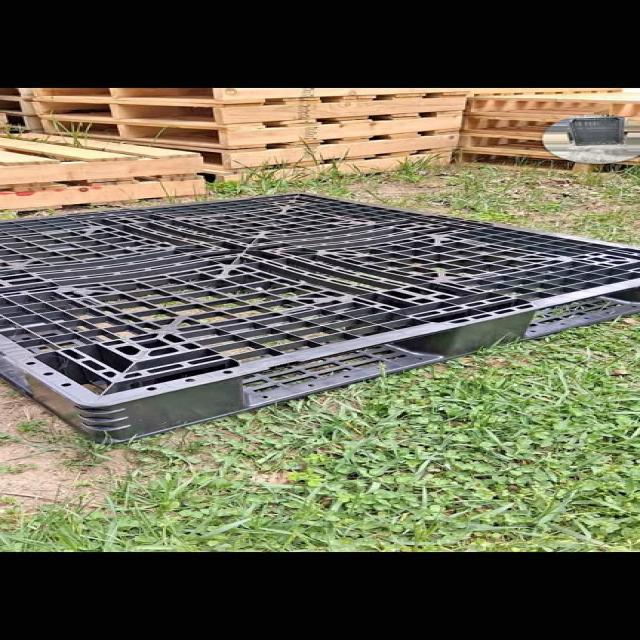non-igps: (2, 190, 637, 448), (19, 88, 475, 190), (0, 131, 213, 215), (447, 90, 640, 182)
